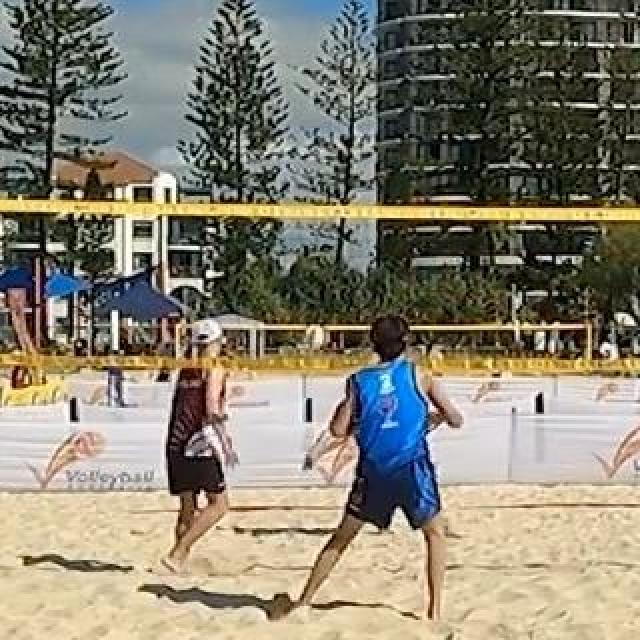volleyball: (305, 324, 329, 348)
